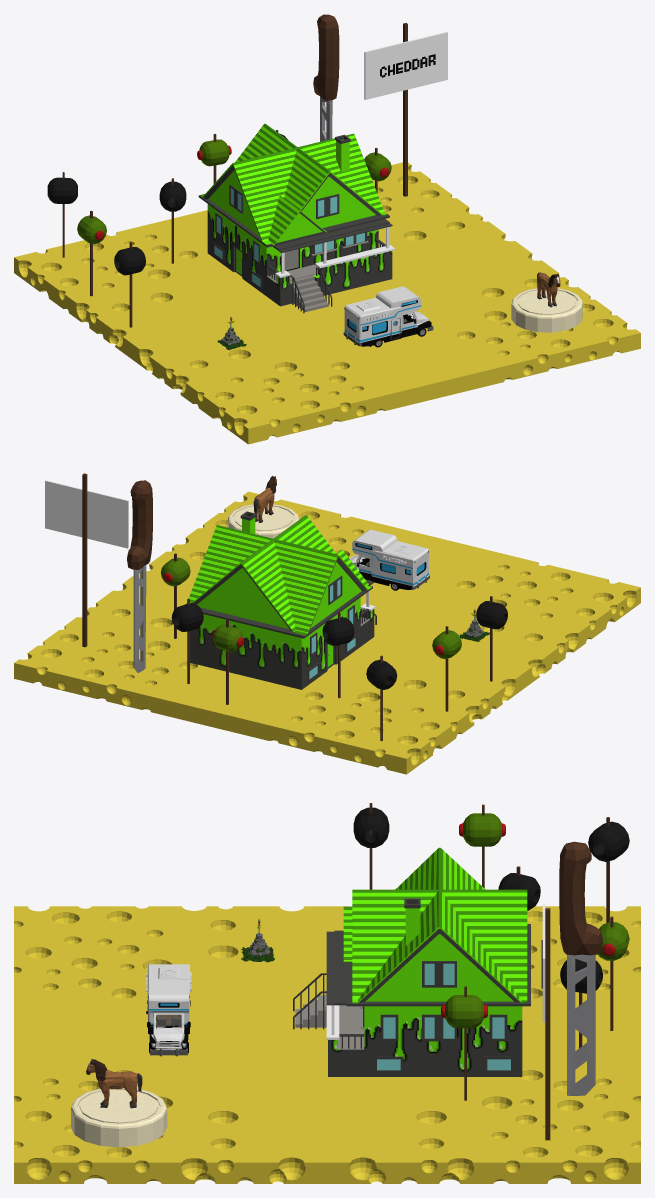
The picture shows the model from 3 angles, top to bottom: view 1: azimuth 30°, elevation 25°; view 2: azimuth 150°, elevation 25°; view 3: azimuth 270°, elevation 25°; orthographic projection. The views are drawn at different scales.
Parts seen in each view (by area): view 1: Cube.022, Cube.754, Cube.023, VEHICLES_CAMPER, Cylinder.016, Cube.024, Sphere.017, Sphere.016, Sphere.020, Sphere.018, Sphere.022, Sphere.019 (+1 smaller); view 2: Cube.022, Cube.754, Cube.023, VEHICLES_CAMPER, Cube.024, Cylinder.016, Sphere.017, Sphere.020, Sphere.021, Sphere.016, Sphere.018, Sphere.022 (+2 smaller); view 3: Cube.022, Cube.754, Cube.024, Cylinder.016, VEHICLES_CAMPER, Cube.023, Sphere.019, Sphere.016, Sphere.018, Sphere.017, ANIMAL_CABALLO, Sphere.022 (+3 smaller).
Boxes of the visible parts, left/top/right/bottom form: Cube.022: left=14, top=162, right=640, bottom=444; Cube.754: left=198, top=123, right=395, bottom=313; Cube.023: left=364, top=23, right=447, bottom=196; VEHICLES_CAMPER: left=343, top=286, right=433, bottom=347; Cylinder.016: left=511, top=288, right=582, bottom=332; Cube.024: left=313, top=14, right=339, bottom=141; Sphere.017: left=114, top=242, right=145, bottom=327; Sphere.016: left=47, top=172, right=77, bottom=257; Sphere.020: left=159, top=178, right=186, bottom=263; Sphere.018: left=77, top=210, right=106, bottom=296; Sphere.022: left=197, top=134, right=231, bottom=183; Sphere.019: left=364, top=148, right=391, bottom=193; Cube.022: left=14, top=491, right=640, bottom=774; Cube.754: left=185, top=511, right=376, bottom=689; Cube.023: left=45, top=473, right=128, bottom=647; VEHICLES_CAMPER: left=349, top=529, right=429, bottom=590; Cube.024: left=127, top=480, right=152, bottom=672; Cylinder.016: left=228, top=503, right=298, bottom=538; Sphere.017: left=476, top=596, right=507, bottom=681; Sphere.020: left=322, top=612, right=354, bottom=698; Sphere.021: left=171, top=598, right=203, bottom=683; Sphere.016: left=366, top=655, right=397, bottom=741; Sphere.018: left=432, top=626, right=461, bottom=711; Sphere.022: left=212, top=619, right=244, bottom=704; Cube.022: left=14, top=906, right=640, bottom=1183; Cube.754: left=293, top=847, right=530, bottom=1076; Cube.024: left=559, top=841, right=602, bottom=1095; Cylinder.016: left=71, top=1088, right=167, bottom=1147; VEHICLES_CAMPER: left=146, top=964, right=191, bottom=1056; Cube.023: left=541, top=904, right=550, bottom=1140; Sphere.019: left=441, top=986, right=487, bottom=1100; Sphere.016: left=588, top=817, right=629, bottom=922; Sphere.018: left=459, top=804, right=505, bottom=888; Sphere.017: left=353, top=803, right=389, bottom=889; ANIMAL_CABALLO: left=86, top=1059, right=142, bottom=1108; Sphere.022: left=598, top=916, right=629, bottom=1030.
Size of the model in its own units: 3917 by 2159 by 4000.
42 materials, 4 textured.
